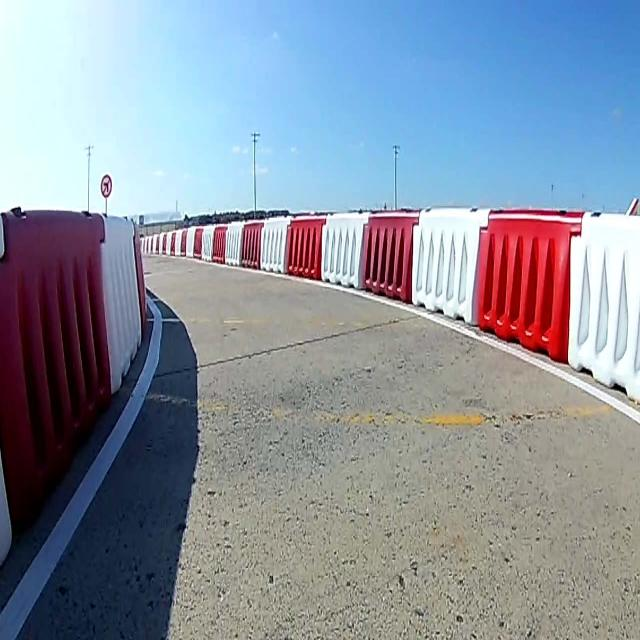soladonulmez: (100, 173, 112, 202)
